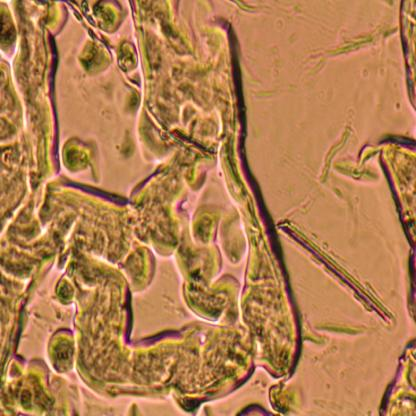Normal: (0, 0, 296, 416)
